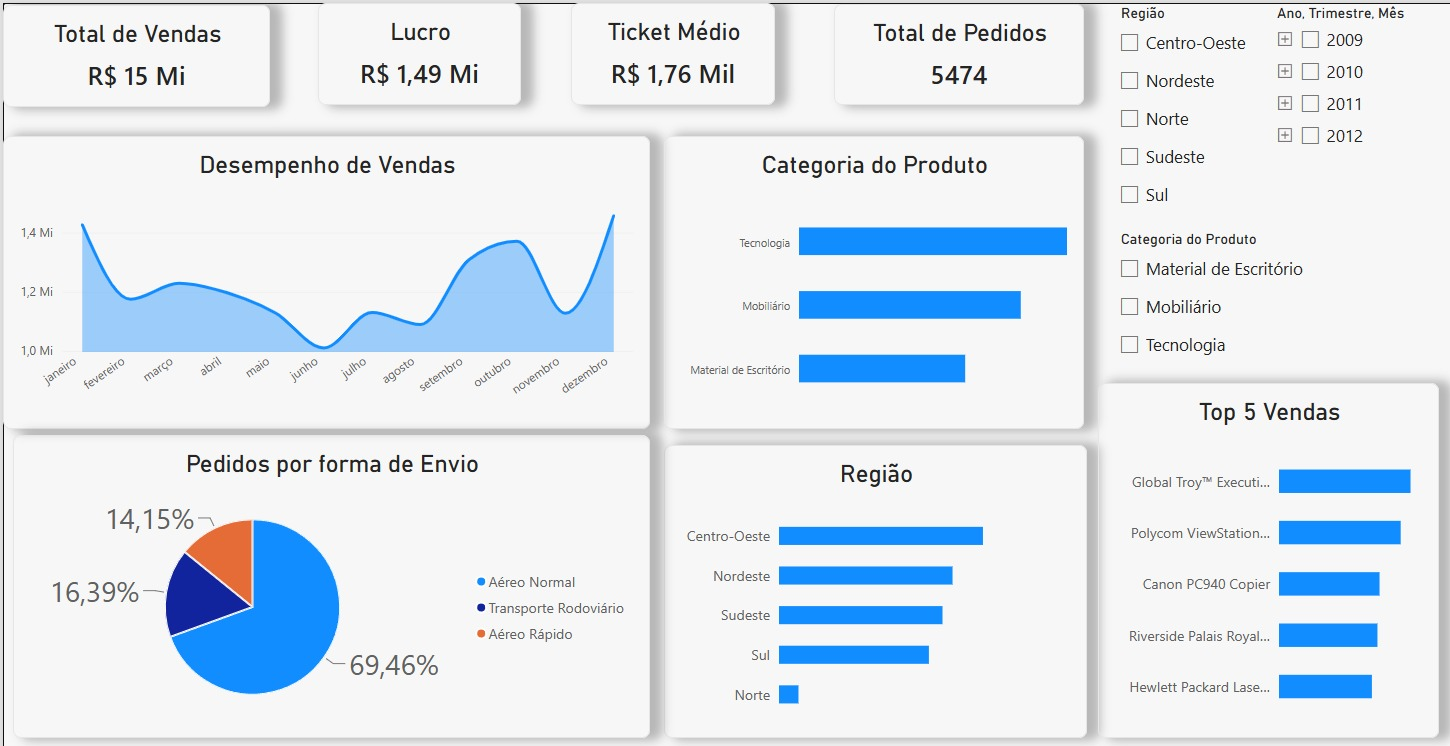

The page's visual inventory and layout, read from the dashboard file:
{"tool":"powerbi","page":{"name":"Página 1","canvas":[1920,1080],"ordinal":0},"visuals":[{"type":"card","title":"Total de Pedidos","fields":{"Values":["Count(Vendas.Order ID)"]},"box":[831,1,250,101],"z":0},{"type":"card","title":"Lucro","fields":{"Values":["Sum(Vendas.Lucro)"]},"box":[315,0,203,102],"z":1000},{"type":"card","title":"Total de Vendas","fields":{"Values":["Sum(Vendas.Valor da Venda)"]},"box":[0,2,267,102],"z":2000},{"type":"card","title":"Ticket Médio","fields":{"Values":["Avg(Vendas.Valor da Venda)"]},"box":[568,0,204,102],"z":3000},{"type":"slicer","fields":{"Values":["Vendas.Região"]},"box":[1110,2,220.1,225.6],"z":4000},{"type":"slicer","fields":{"Values":["Vendas.Categoria do Produto"]},"box":[1110,228,241,134],"z":5000},{"type":"areaChart","title":"Desempenho de Vendas","fields":{"Category":["Vendas.Data da Venda.Variation.Hierarquia de datas.Ano","Vendas.Data da Venda.Variation.Hierarquia de datas.Mês"],"Y":["Sum(Vendas.Valor da Venda)"]},"box":[0,132.9,647,293],"z":6000},{"type":"barChart","title":"Categoria do Produto","fields":{"Category":["Vendas.Categoria do Produto"],"Y":["Sum(Vendas.Valor da Venda)"]},"box":[661,133,420,292.9],"z":7000},{"type":"barChart","title":"Região","fields":{"Category":["Vendas.Região"],"Y":["Sum(Vendas.Valor da Venda)"]},"box":[661,442,422.9,292.9],"z":8000},{"type":"pieChart","title":"Pedidos por forma de Envio","fields":{"Category":["Vendas.Forma de Envio"],"Y":["Count(Vendas.total de pedidos)"]},"box":[10,432,637,303],"z":9000},{"type":"slicer","fields":{"Values":["Vendas.Data da Venda.Variation.Hierarquia de datas.Ano","Vendas.Data da Venda.Variation.Hierarquia de datas.Trimestre","Vendas.Data da Venda.Variation.Hierarquia de datas.Mês"]},"box":[1266,2,197,342],"z":10000},{"type":"barChart","title":"Top 5 Vendas ","fields":{"Category":["Vendas.Nome do Produto"],"Y":["Sum(Vendas.Valor da Venda)"]},"box":[1095,380,341,355],"z":10001}]}

Visuals, with their boxes on the page's 1920x1080 design canvas (x1, y1, x2, y2). These are canvas units, not pixel positions in the 1450x746 screenshot, which may show the page scaled, cropped or inside an application window:
"Total de Pedidos" card: l=831, t=1, r=1081, b=102
"Lucro" card: l=315, t=0, r=518, b=102
"Total de Vendas" card: l=0, t=2, r=267, b=104
"Ticket Médio" card: l=568, t=0, r=772, b=102
slicer - Vendas.Região: l=1110, t=2, r=1330, b=228
slicer - Vendas.Categoria do Produto: l=1110, t=228, r=1351, b=362
"Desempenho de Vendas" areaChart: l=0, t=133, r=647, b=426
"Categoria do Produto" barChart: l=661, t=133, r=1081, b=426
"Região" barChart: l=661, t=442, r=1084, b=735
"Pedidos por forma de Envio" pieChart: l=10, t=432, r=647, b=735
slicer - Vendas.Data da Venda.Variation.Hierarquia de datas.Ano x Vendas.Data da Venda.Variation.Hierarquia de datas.Trimestre: l=1266, t=2, r=1463, b=344
"Top 5 Vendas " barChart: l=1095, t=380, r=1436, b=735
